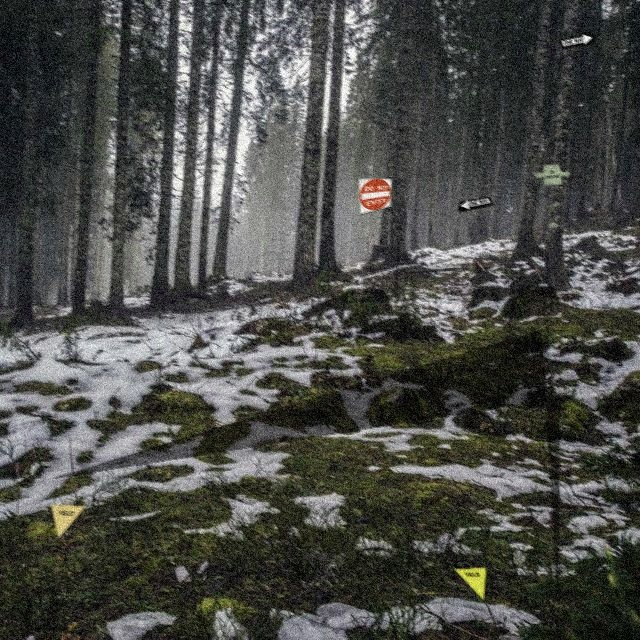DO_NOT_ENTER: (358, 178, 392, 215)
GO_AROUND: (534, 164, 571, 186)
ONE_WAY_ left: (457, 196, 494, 213)
ONE_WAY_ right: (559, 32, 596, 50)
YIELD: (50, 504, 87, 540), (453, 567, 487, 602)
